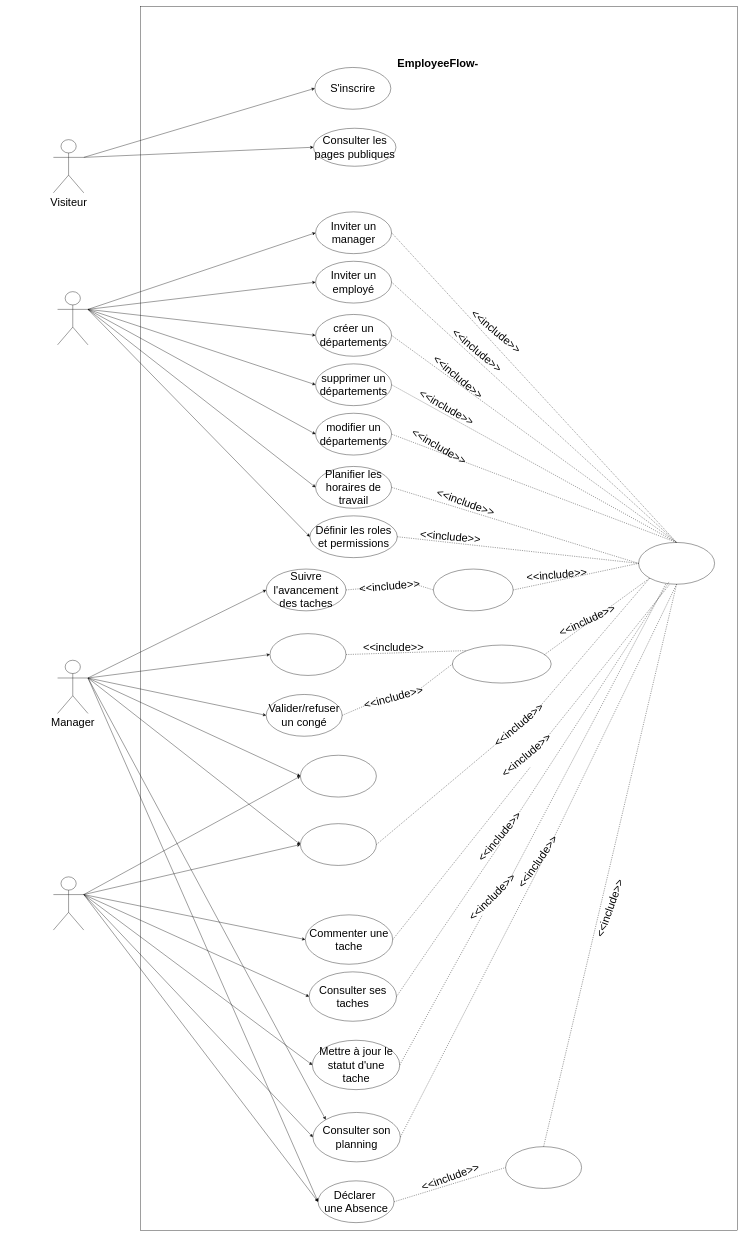
The diagram is 744 pixels wide and 1237 high, and some of its shapes have lost their labels. Here are the shapes that lost their labels. From the top down, the centre of each, then its label:
At (x=72, y=318): "Administrateur d'Entreprise".
At (x=676, y=563): "S'authentifier".
At (x=473, y=590): "Notifier si tâche terminée".
At (x=308, y=654): "Assigner une tache".
At (x=501, y=664): "Envoyer une notification à l'Employé".
At (x=338, y=776): "Consulter ses Notifications".
At (x=338, y=844): "Consulter le tableau de board".
At (x=68, y=903): "Employe".
At (x=543, y=1167): "Envoyer une notification au Manager".
